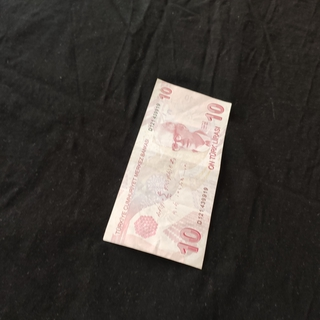10TLBack: (101, 77, 232, 271)
